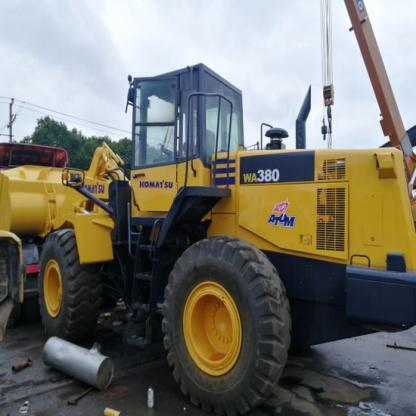bull_dozer/loader/grader: (2, 58, 415, 416)
